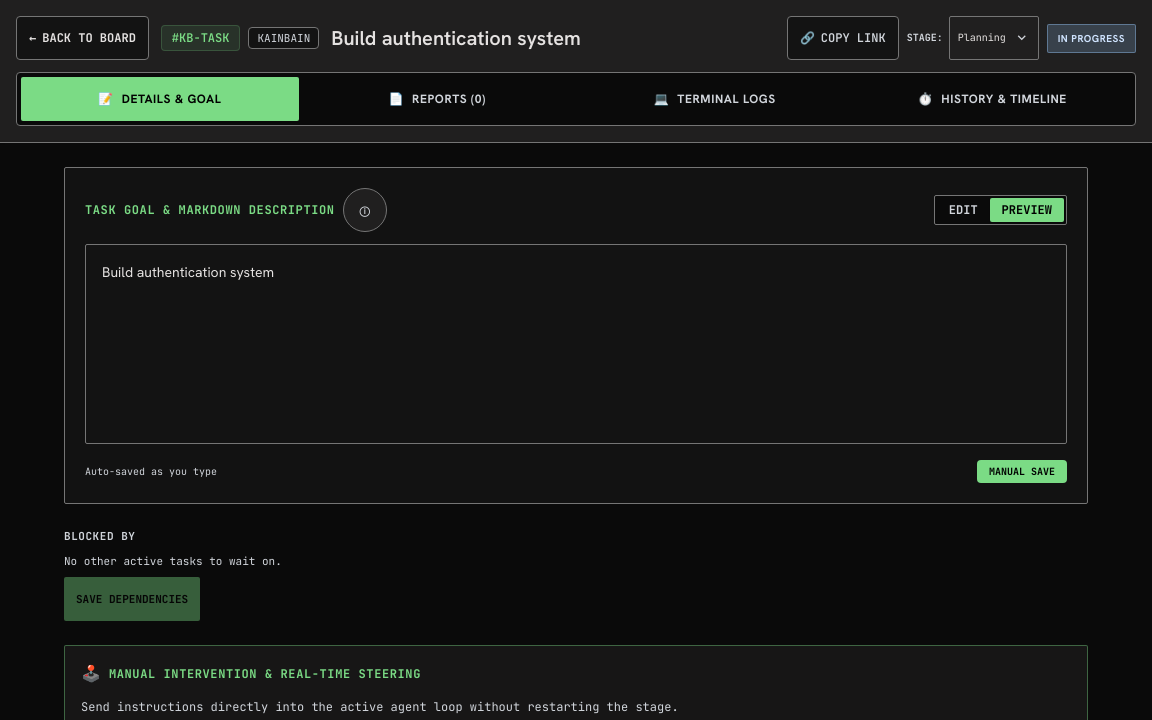
Test case: TaskDetailPage full-page route component › copy link button copies URL to clipboard and shows feedback
Click the button with aria-label "Copy shareable task URL" at (843, 38), box [787,16,899,60]
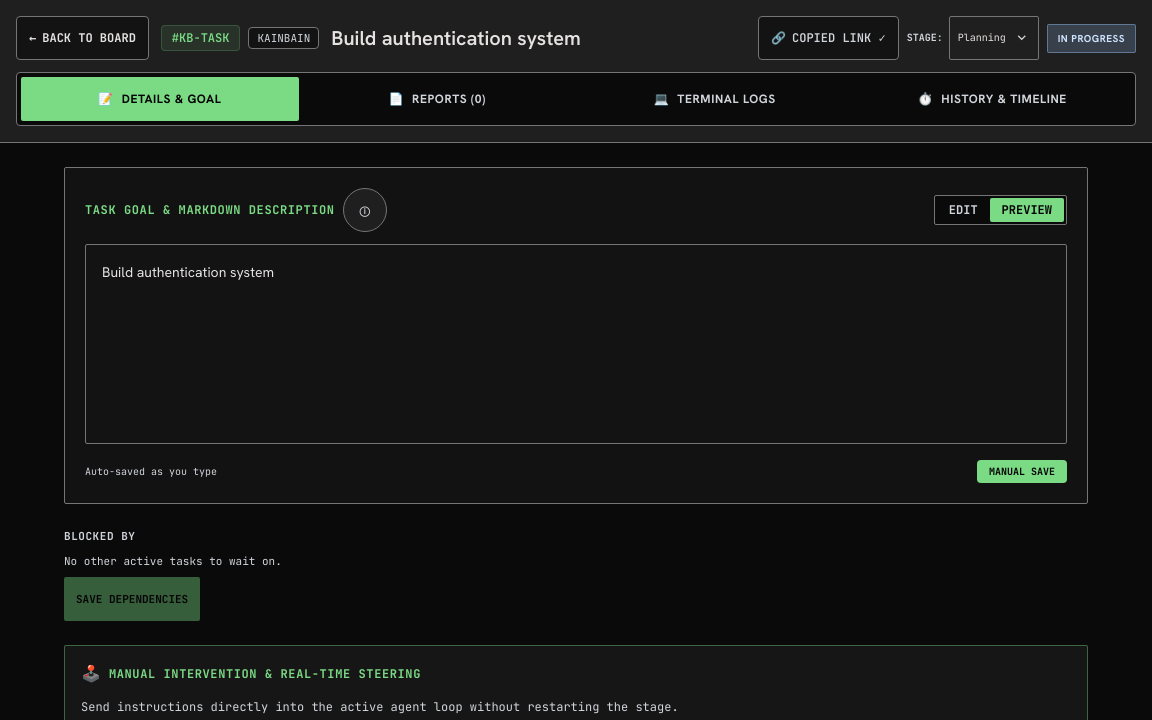
Result: the text "Copied Link ✓" is shown at [792,30,886,46]
